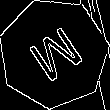M_SE: (21, 19, 87, 87)
